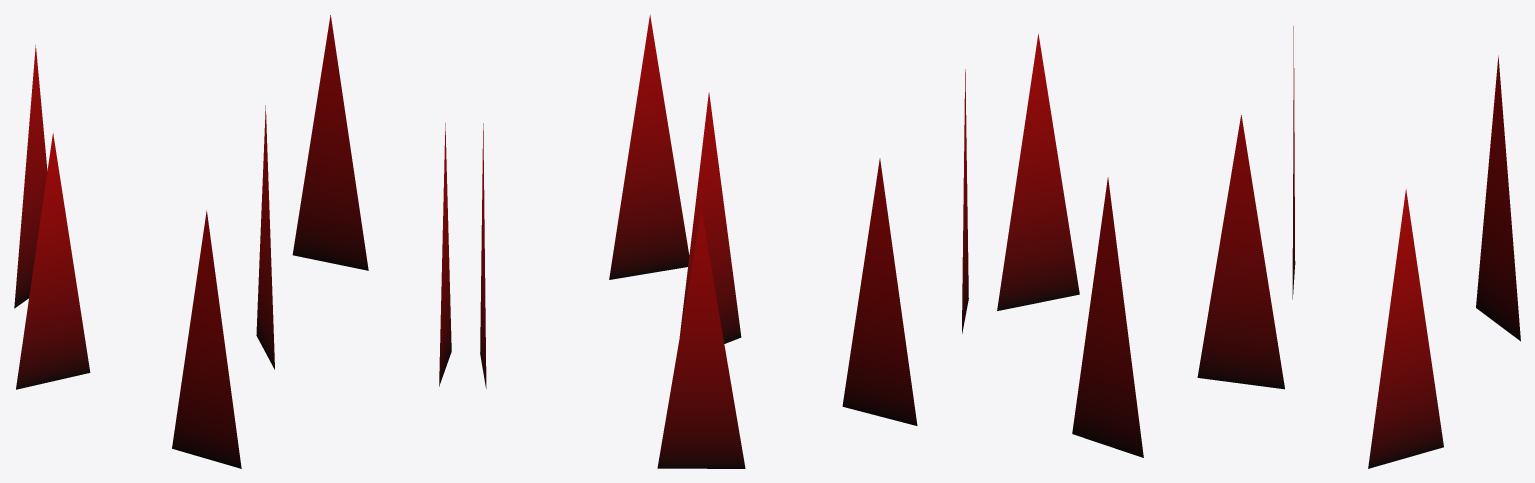
File: GrassTriangle_Small.fbx
The picture shows the model from 3 angles, left to right: view 1: azimuth 30°, elevation 25°; view 2: azimuth 150°, elevation 25°; view 3: azimuth 270°, elevation 25°; orthographic projection. The views are drawn at different scales.
Parts seen in each view (by area): view 1: Grass.002; view 2: Grass.002; view 3: Grass.002.
Boxes of the visible parts, <box> form: Grass.002: <box>14,15,451,468</box>; Grass.002: <box>480,14,968,468</box>; Grass.002: <box>997,26,1520,468</box>.
Bounding box in the file's own units: 34.9 × 21.49 × 37.8.
